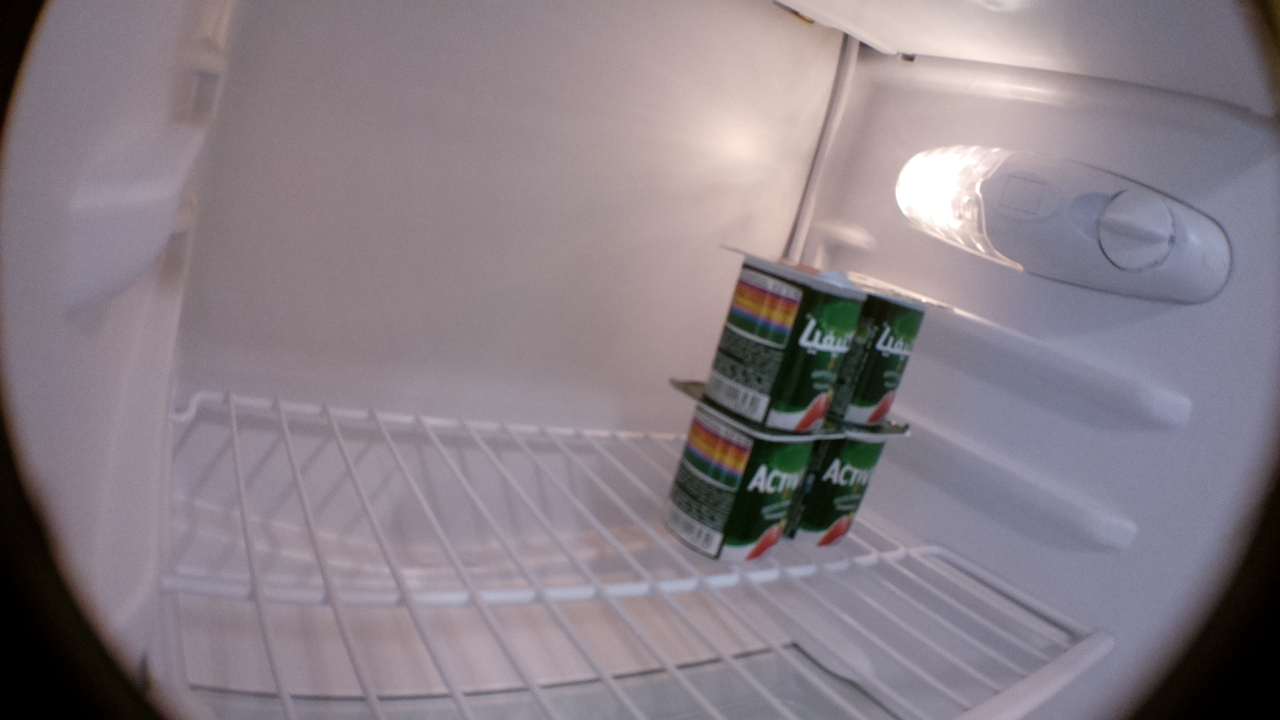yoghurt: (658, 380, 845, 567), (699, 239, 868, 432), (785, 417, 912, 551), (849, 271, 954, 429)
